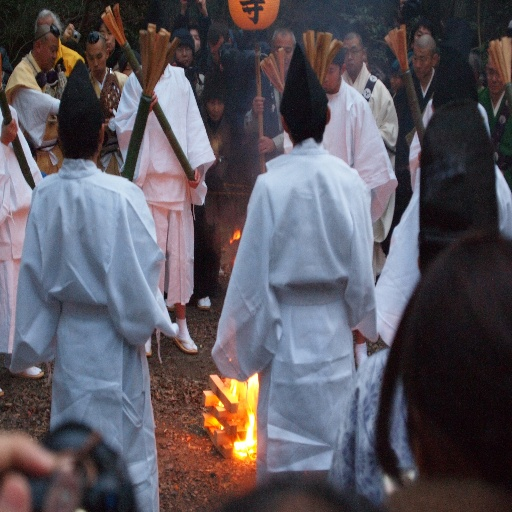hand: (0, 430, 60, 511), (0, 116, 18, 142), (255, 134, 272, 156), (250, 94, 266, 117), (103, 107, 116, 134), (185, 164, 200, 186), (147, 89, 158, 113), (211, 150, 219, 170)
